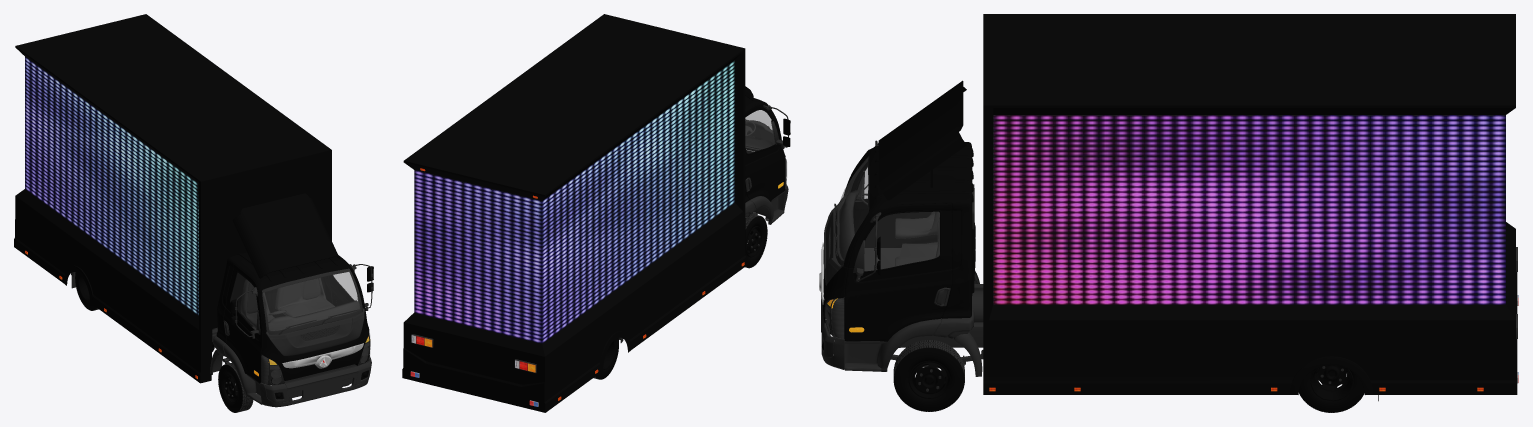
Rendered from ultra.glb.
3 renders of one model, left to right at view 1: azimuth 30°, elevation 25°; view 2: azimuth 150°, elevation 25°; view 3: azimuth 270°, elevation 25°, orthographic. The views are drawn at different scales.
Parts seen in each view (by area): view 1: pTorus7, BMG_07_04_2024:Tata_Ultra_T7:pPlane32, pCube10, BMG_07_04_2024:Tata_Ultra_T7:pPlane6, BMG_07_04_2024:Tata_Ultra_T7:pPlane3, BMG_07_04_2024:Tata_Ultra_T7:pCube115, BMG_07_04_2024:Tata_Ultra_T7:polySurface3, BMG_07_04_2024:Tata_Ultra_T7:pPlane17, BMG_07_04_2024:Tata_Ultra_T7:pPlane9, BMG_07_04_2024:Tata_Ultra_T7:polySurface5, BMG_07_04_2024:Tata_Ultra_T7:pCube116, BMG_07_04_2024:Tata_Ultra_T7:polySurface8 (+6 smaller); view 2: pTorus7, BMG_07_04_2024:Tata_Ultra_T7:pPlane32, BMG_07_04_2024:Tata_Ultra_T7:pPlane17, BMG_07_04_2024:Tata_Ultra_T7:polySurface5, BMG_07_04_2024:Tata_Ultra_T7:pTorus5, BMG_07_04_2024:Tata_Ultra_T7:group8_pCube72, BMG_07_04_2024:Tata_Ultra_T7:pCylinder37, BMG_07_04_2024:Tata_Ultra_T7:pCube116; view 3: pTorus7, BMG_07_04_2024:Tata_Ultra_T7:pPlane32, pCube10, BMG_07_04_2024:Tata_Ultra_T7:pPlane17, BMG_07_04_2024:Tata_Ultra_T7:polySurface5, BMG_07_04_2024:Tata_Ultra_T7:pTorus4, BMG_07_04_2024:Tata_Ultra_T7:group8_pCube72, BMG_07_04_2024:Tata_Ultra_T7:pPlane6, BMG_07_04_2024:Tata_Ultra_T7:pCylinder27, BMG_07_04_2024:Tata_Ultra_T7:pCube114, BMG_07_04_2024:Tata_Ultra_T7:pCube116, BMG_07_04_2024:Tata_Ultra_T7:pCube115 (+4 smaller).
Boxes of the visible parts, x1,y1,x2,y2 form: pTorus7: (14, 14, 331, 383); BMG_07_04_2024:Tata_Ultra_T7:pPlane32: (216, 252, 369, 383); pCube10: (232, 193, 339, 278); BMG_07_04_2024:Tata_Ultra_T7:pPlane6: (263, 272, 359, 330); BMG_07_04_2024:Tata_Ultra_T7:pPlane3: (266, 308, 364, 355); BMG_07_04_2024:Tata_Ultra_T7:pCube115: (275, 277, 334, 316); BMG_07_04_2024:Tata_Ultra_T7:polySurface3: (284, 365, 358, 405); BMG_07_04_2024:Tata_Ultra_T7:pPlane17: (230, 272, 357, 329); BMG_07_04_2024:Tata_Ultra_T7:pPlane9: (262, 268, 362, 334); BMG_07_04_2024:Tata_Ultra_T7:polySurface5: (210, 335, 368, 404); BMG_07_04_2024:Tata_Ultra_T7:pCube116: (268, 300, 359, 330); BMG_07_04_2024:Tata_Ultra_T7:polySurface8: (260, 357, 371, 407); pTorus7: (402, 14, 746, 412); BMG_07_04_2024:Tata_Ultra_T7:pPlane32: (745, 96, 785, 202); BMG_07_04_2024:Tata_Ultra_T7:pPlane17: (745, 110, 774, 153); BMG_07_04_2024:Tata_Ultra_T7:polySurface5: (745, 192, 784, 224); BMG_07_04_2024:Tata_Ultra_T7:pTorus5: (745, 216, 767, 267); BMG_07_04_2024:Tata_Ultra_T7:group8_pCube72: (593, 338, 618, 379); BMG_07_04_2024:Tata_Ultra_T7:pCylinder37: (746, 226, 762, 257); BMG_07_04_2024:Tata_Ultra_T7:pCube116: (745, 120, 773, 142); pTorus7: (983, 14, 1517, 394); BMG_07_04_2024:Tata_Ultra_T7:pPlane32: (823, 142, 975, 341); pCube10: (878, 80, 966, 200); BMG_07_04_2024:Tata_Ultra_T7:pPlane17: (862, 167, 939, 270); BMG_07_04_2024:Tata_Ultra_T7:polySurface5: (844, 242, 982, 376); BMG_07_04_2024:Tata_Ultra_T7:pTorus4: (894, 340, 964, 411); BMG_07_04_2024:Tata_Ultra_T7:group8_pCube72: (1298, 365, 1364, 412); BMG_07_04_2024:Tata_Ultra_T7:pPlane6: (837, 159, 867, 260); BMG_07_04_2024:Tata_Ultra_T7:pCylinder27: (908, 360, 950, 398); BMG_07_04_2024:Tata_Ultra_T7:pCube114: (895, 211, 939, 238); BMG_07_04_2024:Tata_Ultra_T7:pCube116: (839, 190, 860, 259); BMG_07_04_2024:Tata_Ultra_T7:pCube115: (895, 217, 939, 266).
Bounding box in the file's own units: 2.35 × 3.44 × 6.97.
Materials: 20 (5 with a texture image).
